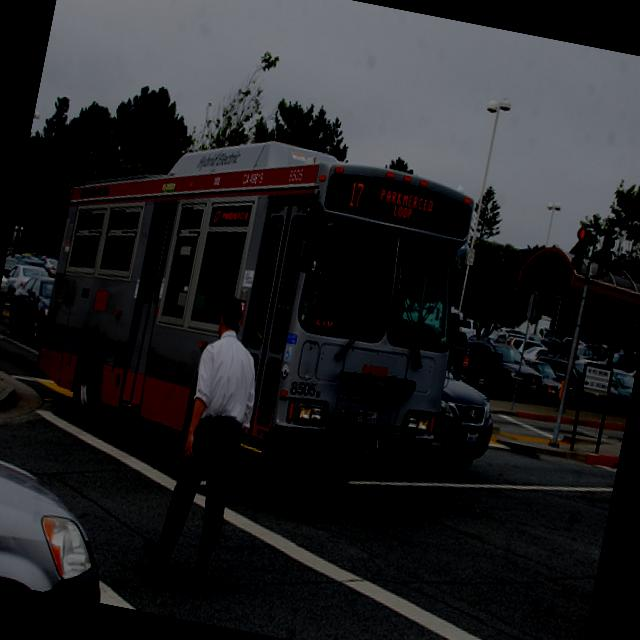Vehicle: (24, 102, 494, 504), (0, 436, 130, 604), (448, 325, 612, 409), (433, 360, 499, 477), (458, 333, 552, 405), (4, 270, 56, 346), (0, 258, 52, 308), (527, 361, 581, 406), (604, 366, 636, 416), (506, 336, 548, 368), (488, 326, 526, 346), (628, 362, 638, 386), (584, 342, 600, 353)
